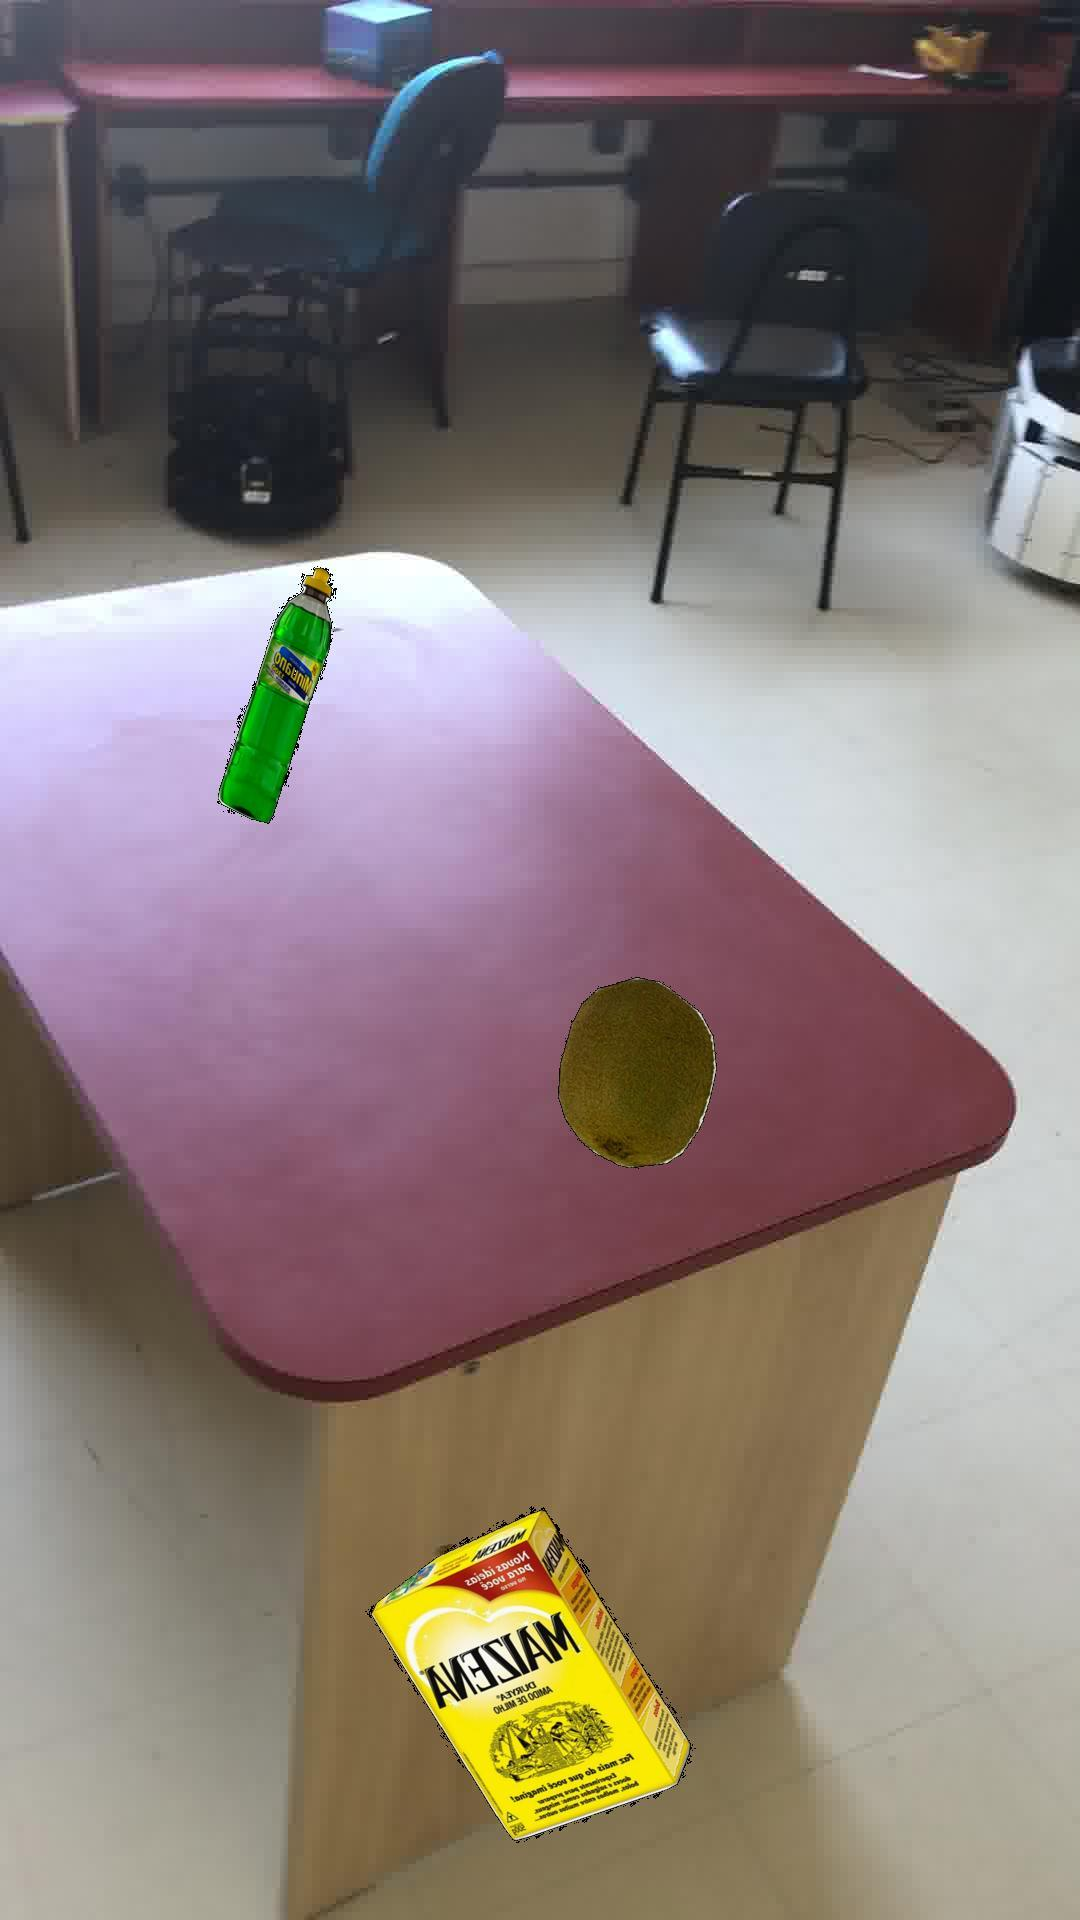cleaner: (215, 567, 335, 823)
kiwi: (556, 976, 716, 1167)
